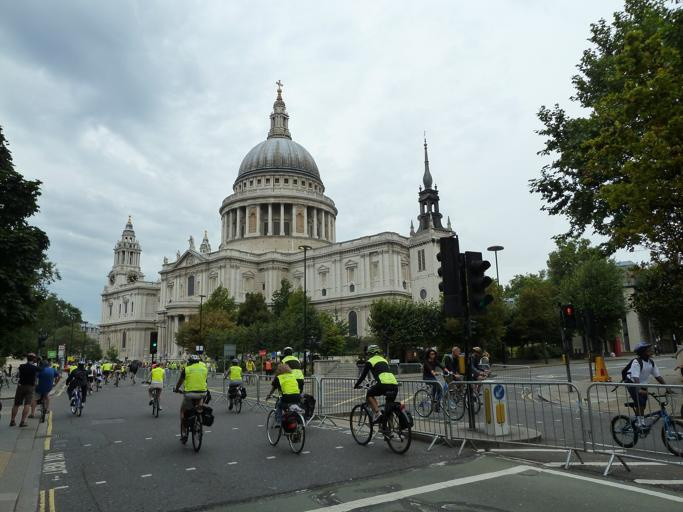non-vehicle: (609, 388, 682, 458), (348, 378, 414, 455), (263, 393, 306, 455), (170, 387, 204, 452), (221, 376, 243, 413), (141, 380, 161, 417), (65, 383, 84, 416), (38, 392, 48, 423)
